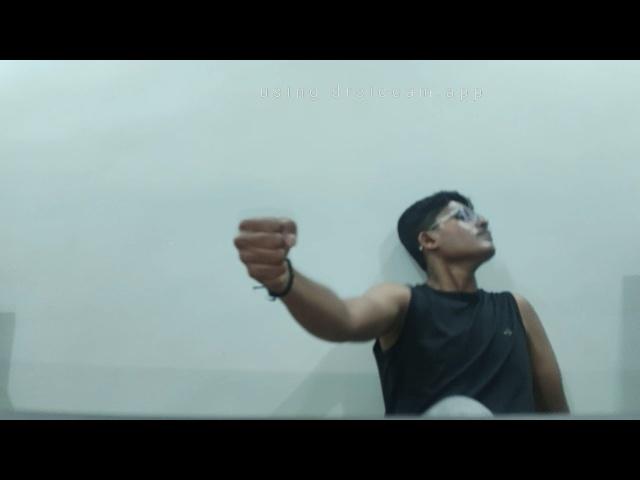yes: (230, 203, 306, 301)
